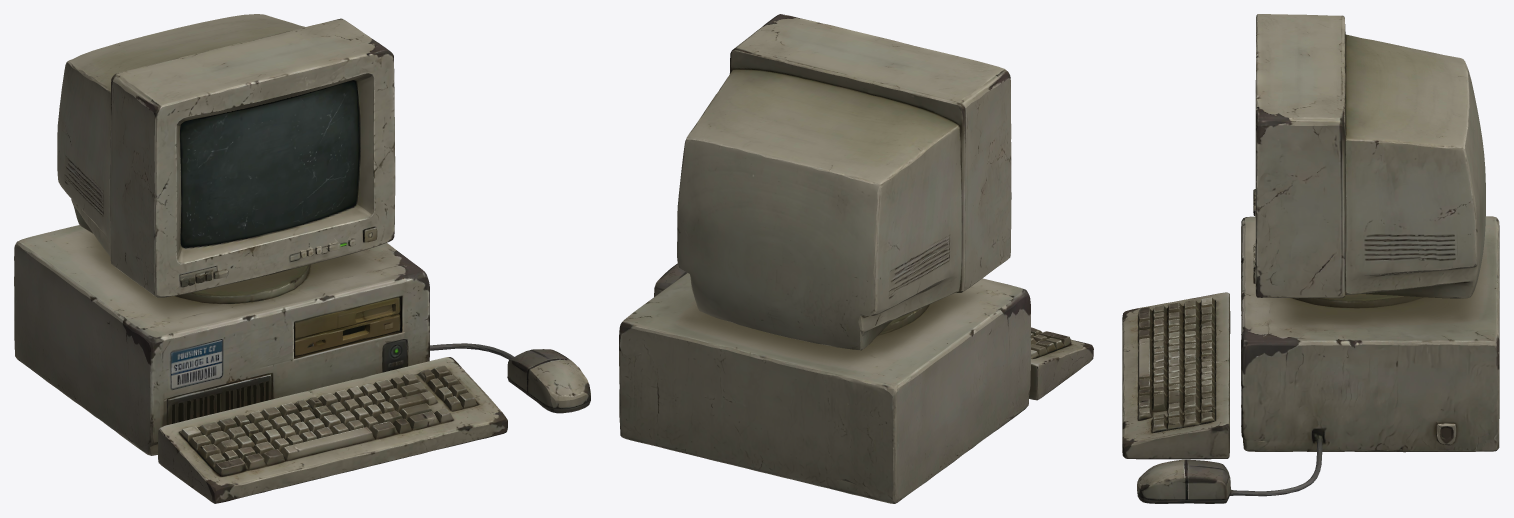
Rendered from komputer-buluk.fbx.
3 views of the same model, side by side, from view 1: azimuth 30°, elevation 25°; view 2: azimuth 150°, elevation 25°; view 3: azimuth 270°, elevation 25° (orthographic). The views are drawn at different scales.
Visible parts, largest first — view 1: Mesh.002; view 2: Mesh.002; view 3: Mesh.002.
Boxes of the visible parts, box(x1,y1,x2,y2) form: Mesh.002: box(14, 14, 590, 503); Mesh.002: box(619, 14, 1093, 503); Mesh.002: box(1122, 14, 1499, 503).
Size of the model in its own units: 175 by 148 by 156.
Materials: 1 (1 with a texture image).
